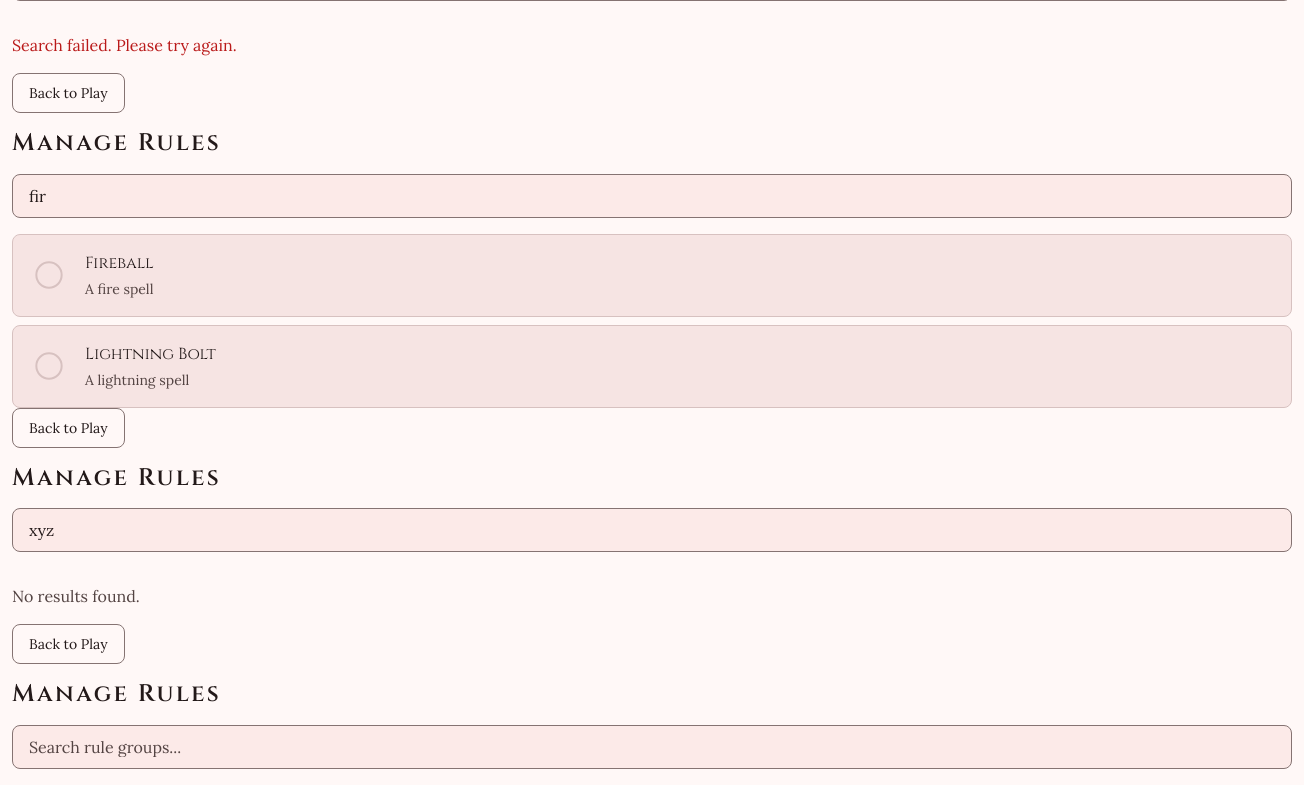
Test: ManageRulesMode › shows error message when API fails
The image size is (1304, 785).
(page scrolled)
Type "fir" into the field with placeholder "Search rule groups..." at (652, 747), box [12, 725, 1292, 769]
Wait 300 ms
(page scrolled)
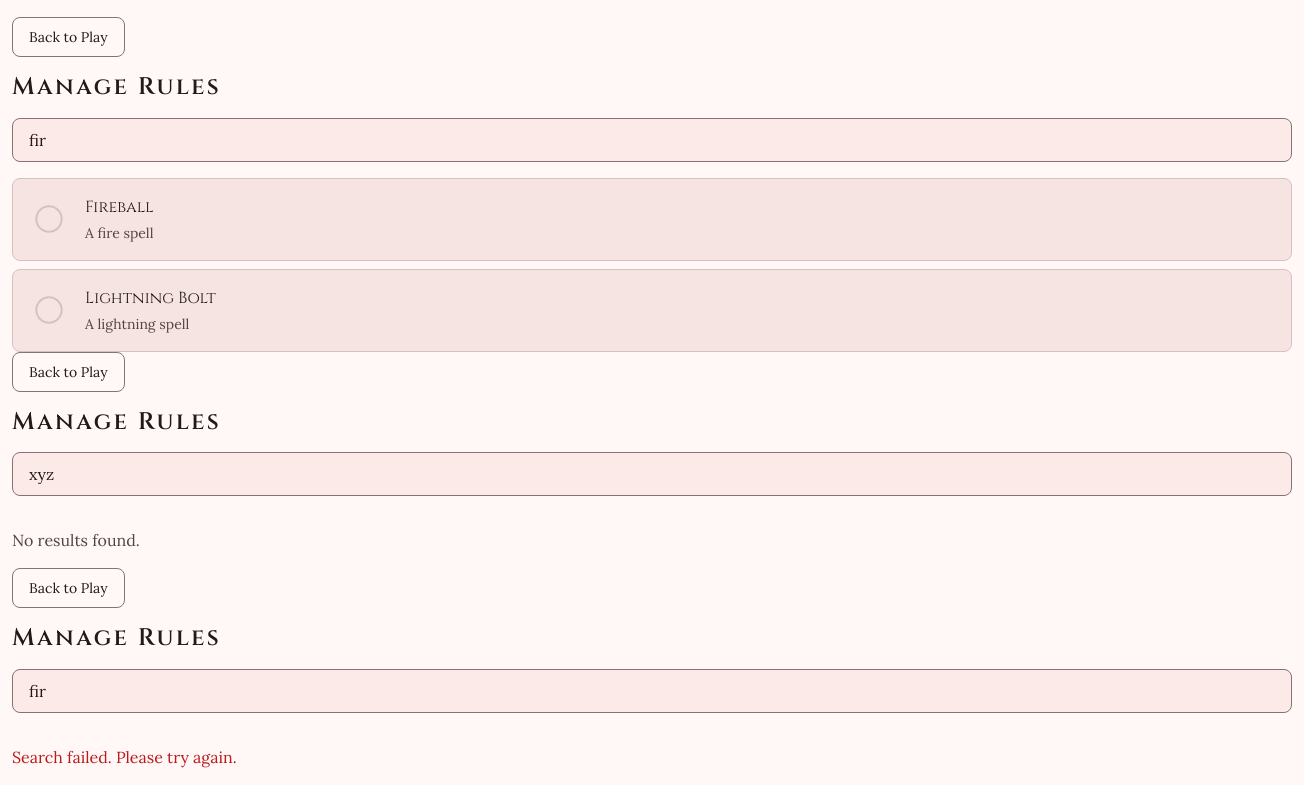
Expected: the 2nd text with class "manage-rules__status--error" shows "Search failed", [12, 747, 237, 767]
